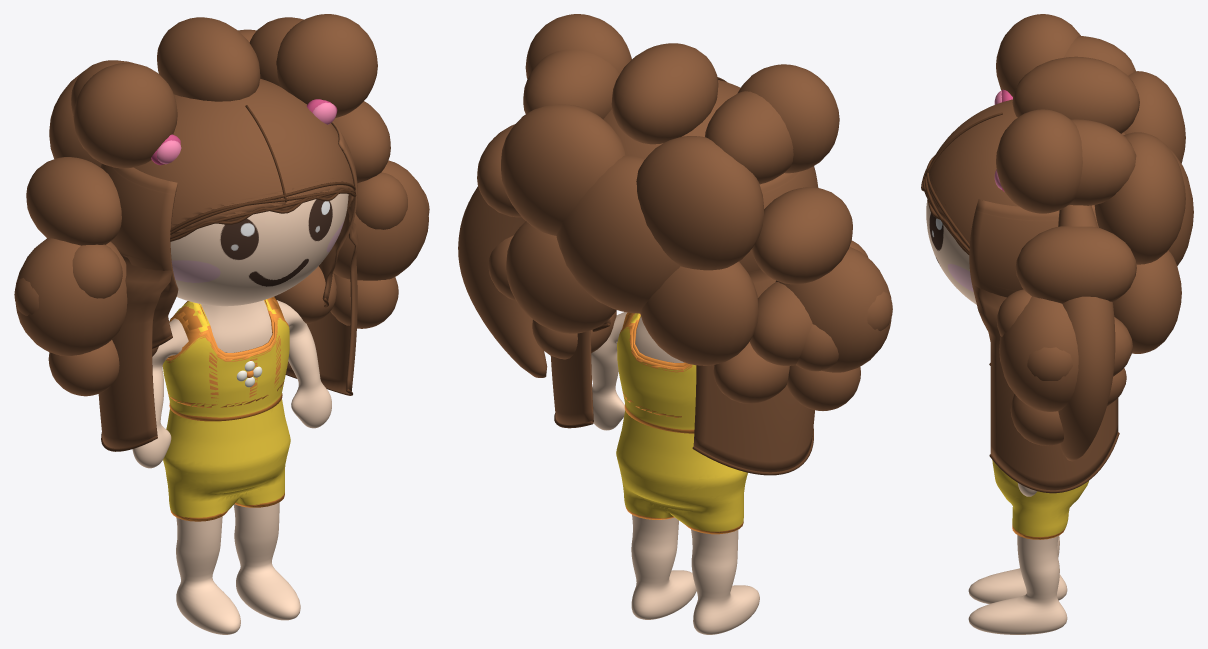
File: lily4.glb
3 views of the same model, side by side, from view 1: azimuth 30°, elevation 25°; view 2: azimuth 150°, elevation 25°; view 3: azimuth 270°, elevation 25° (orthographic). The views are drawn at different scales.
Visible parts, largest first — view 1: Head, Hair_hair1_Curtain-1, Hair_hair5_Bun-1, Torso, Hair_hair2_Pigtail-1, Suit, Hair_hair5_Bun1, Hair_hair1_Scalp, Hair_hair6_Cloud0, Hair_hair6_Cloud3, Hair_hair3_Scalp, Hair_hair4_Scalp (+25 smaller); view 2: Hair_hair6_BackCurl0, Hair_hair6_BackCurl4, Hair_hair6_BackCurl1, Hair_hair6_BackCurl2, Hair_hair1_Curtain-1, Hair_hair6_Cloud0, Hair_hair6_Cloud3, Hair_hair4_Tail, Suit, Hair_hair6_BackCurl3, Hair_hair2_Pigtail-1, Hair_hair5_Bun-1 (+21 smaller); view 3: Hair_hair1_Curtain1, Hair_hair6_Cloud4, Hair_hair5_Bun1, Hair_hair6_BackCurl1, Hair_hair4_Tail, Hair_hair6_Cloud0, Hair_hair2_Pigtail1, LegL, Hair_hair3_Curtain1, Hair_hair6_BackCurl3, Hair_hair5_Bun-1, Hair_hair6_Cloud2 (+18 smaller).
Part boxes in pixels (x1,y1,x2,y2): Head: [170, 193, 348, 306]; Hair_hair1_Curtain-1: [98, 166, 177, 448]; Hair_hair5_Bun-1: [73, 63, 177, 168]; Torso: [132, 300, 331, 468]; Hair_hair2_Pigtail-1: [15, 238, 127, 355]; Suit: [163, 297, 290, 521]; Hair_hair5_Bun1: [276, 14, 377, 118]; Hair_hair1_Scalp: [134, 78, 353, 233]; Hair_hair6_Cloud0: [157, 17, 260, 101]; Hair_hair6_Cloud3: [26, 157, 121, 245]; Hair_hair3_Scalp: [153, 88, 353, 228]; Hair_hair4_Scalp: [152, 87, 353, 225]; Hair_hair6_BackCurl0: [636, 136, 763, 270]; Hair_hair6_BackCurl4: [556, 155, 680, 313]; Hair_hair6_BackCurl1: [501, 104, 625, 235]; Hair_hair6_BackCurl2: [640, 261, 758, 365]; Hair_hair1_Curtain-1: [693, 167, 818, 472]; Hair_hair6_Cloud0: [611, 43, 718, 144]; Hair_hair6_Cloud3: [752, 187, 852, 284]; Hair_hair4_Tail: [458, 186, 547, 377]; Suit: [616, 313, 747, 534]; Hair_hair6_BackCurl3: [506, 221, 616, 333]; Hair_hair2_Pigtail-1: [775, 247, 891, 372]; Hair_hair5_Bun-1: [737, 64, 839, 173]; Hair_hair1_Curtain1: [969, 210, 1118, 490]; Hair_hair6_Cloud4: [1015, 226, 1136, 303]; Hair_hair5_Bun1: [996, 109, 1082, 213]; Hair_hair6_BackCurl1: [1094, 132, 1185, 264]; Hair_hair4_Tail: [1058, 205, 1115, 461]; Hair_hair6_Cloud0: [1012, 56, 1139, 133]; Hair_hair2_Pigtail1: [999, 296, 1078, 411]; LegL: [968, 535, 1067, 634]; Hair_hair3_Curtain1: [969, 199, 1098, 297]; Hair_hair6_BackCurl3: [1113, 250, 1181, 353]; Hair_hair5_Bun-1: [996, 14, 1080, 96]; Hair_hair6_Cloud2: [1068, 119, 1136, 205].
Size of the model in its own units: 0.824 by 1.1 by 0.491.
Materials: 15 (1 with a texture image).
